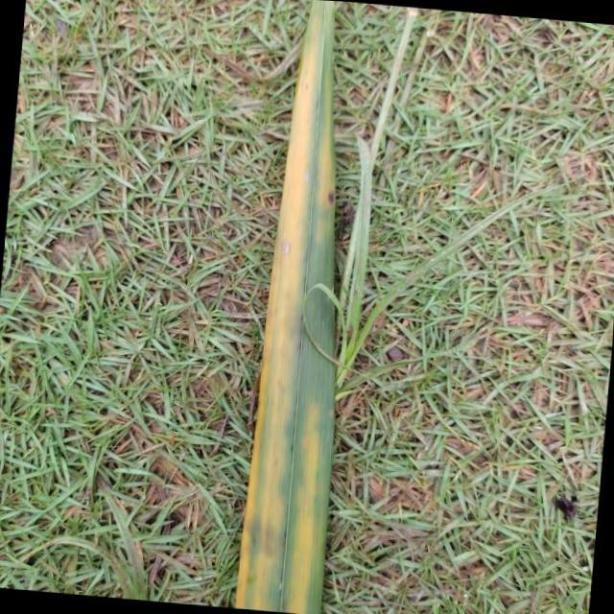Megnesium: (238, 0, 333, 614)
